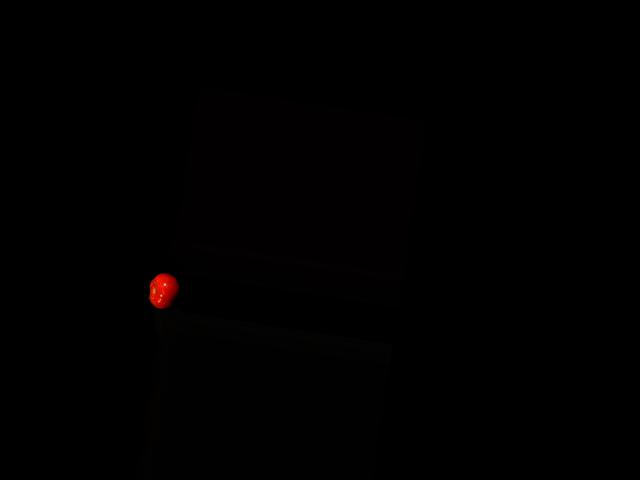tomato: (146, 270, 181, 310)
